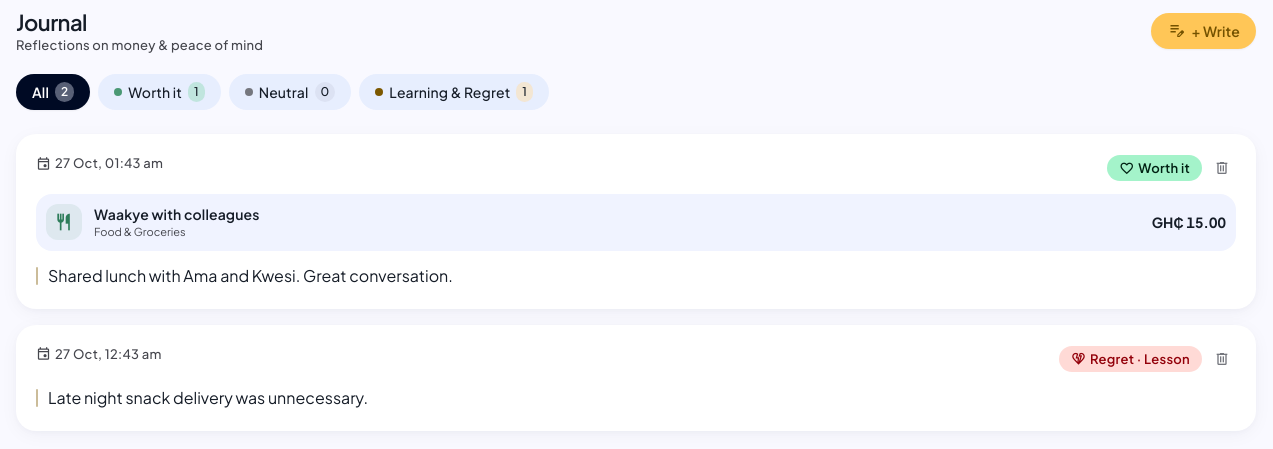
Test: Component: JournalView › renders reflections feed and filters by rating chips
This screenshot has width=1273, height=449.
Check: the text "Shared lunch with Ama and Kwesi. Great conversation." is shown, box [48,264,453,286]
Check: the text "Late night snack delivery was unnecessary." is shown, box [48,386,368,408]
// Filter to "Worth it"
Click the button "Worth it 1".
click(160, 92)  # box [98,74,221,110]
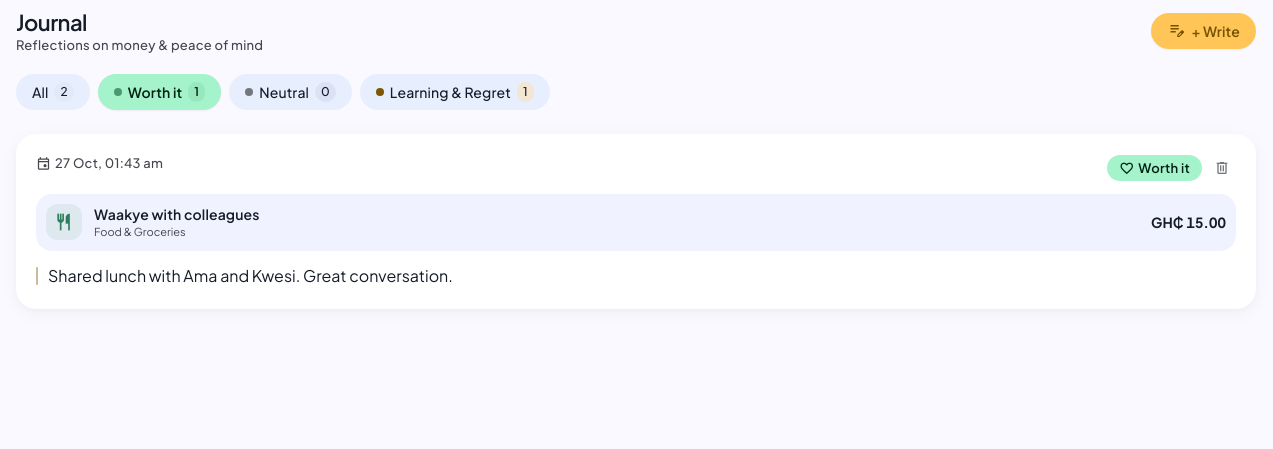
Check: the text "Shared lunch with Ama and Kwesi. Great conversation." is shown, box [48,264,453,286]
Check: the text "Late night snack delivery" is gone
